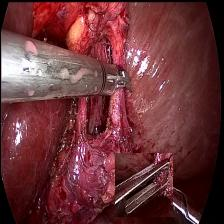Clipper: (99, 58, 131, 106)
Grasper: (114, 152, 172, 216)
